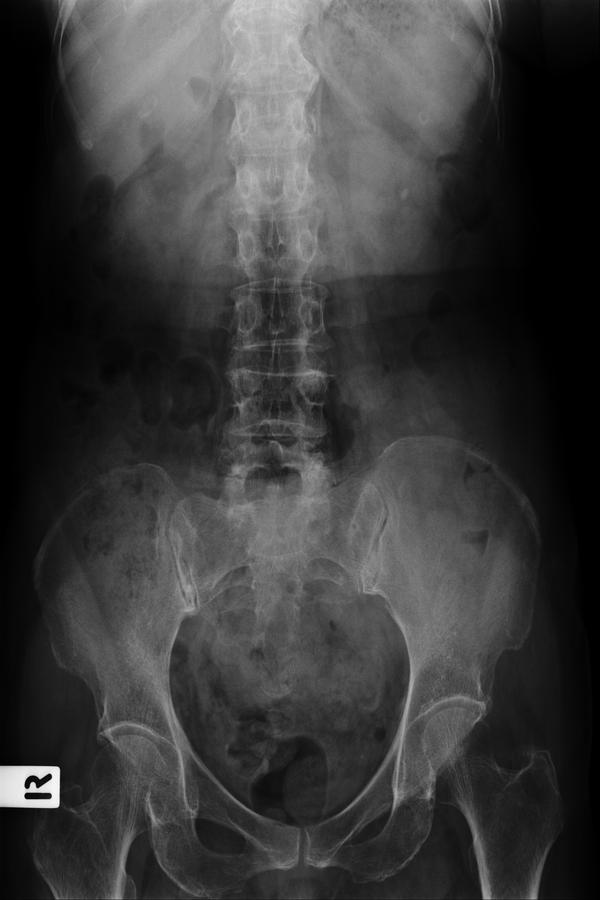not lumbar scoliosis: (213, 214, 337, 564)
